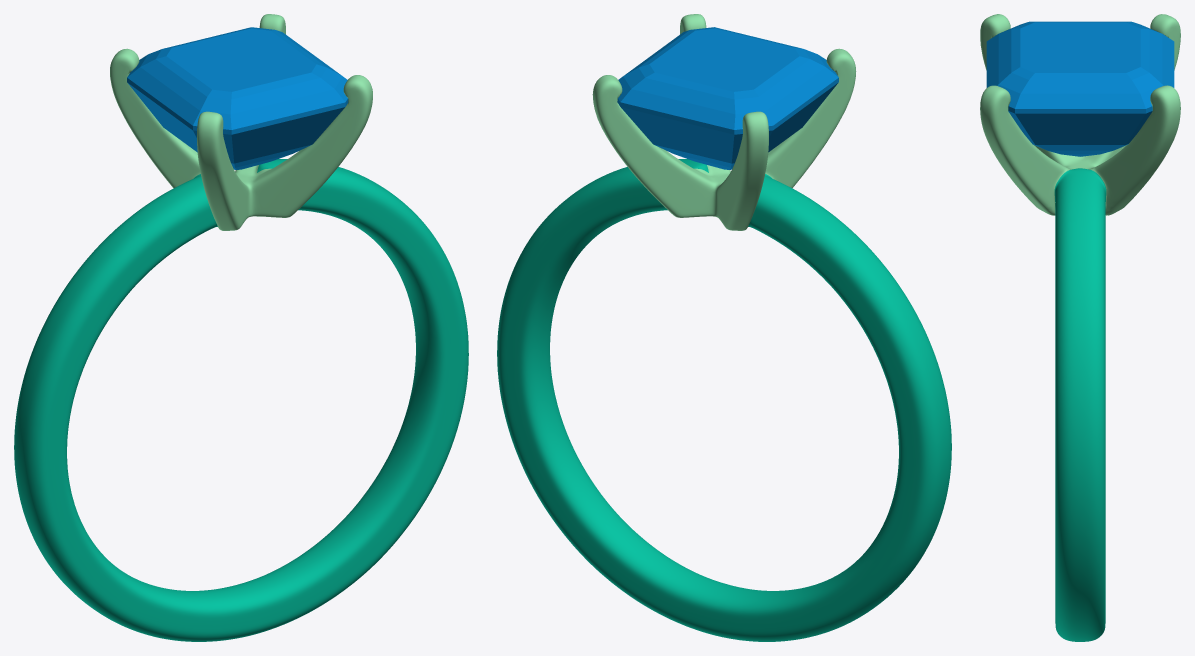
Rendered from BE101_AS_200ct_RENDER.glb.
3 views of the same model, side by side, from view 1: azimuth 30°, elevation 25°; view 2: azimuth 150°, elevation 25°; view 3: azimuth 270°, elevation 25° (orthographic).
Visible parts, largest first — view 1: Metal 01, CS_Diamond_Emerald Square, Metal 02; view 2: Metal 01, CS_Diamond_Emerald Square, Metal 02; view 3: Metal 01, CS_Diamond_Emerald Square, Metal 02.
Part boxes in pixels (<box>): Metal 01: <box>14,159,468,641</box>; CS_Diamond_Emerald Square: <box>127,27,348,169</box>; Metal 02: <box>110,14,372,230</box>; Metal 01: <box>497,159,951,641</box>; CS_Diamond_Emerald Square: <box>617,27,838,169</box>; Metal 02: <box>592,14,856,230</box>; Metal 01: <box>1054,168,1106,641</box>; CS_Diamond_Emerald Square: <box>986,21,1174,156</box>; Metal 02: <box>980,14,1180,215</box>.
Size of the model in its own units: 20.39 by 25.15 by 8.02.
